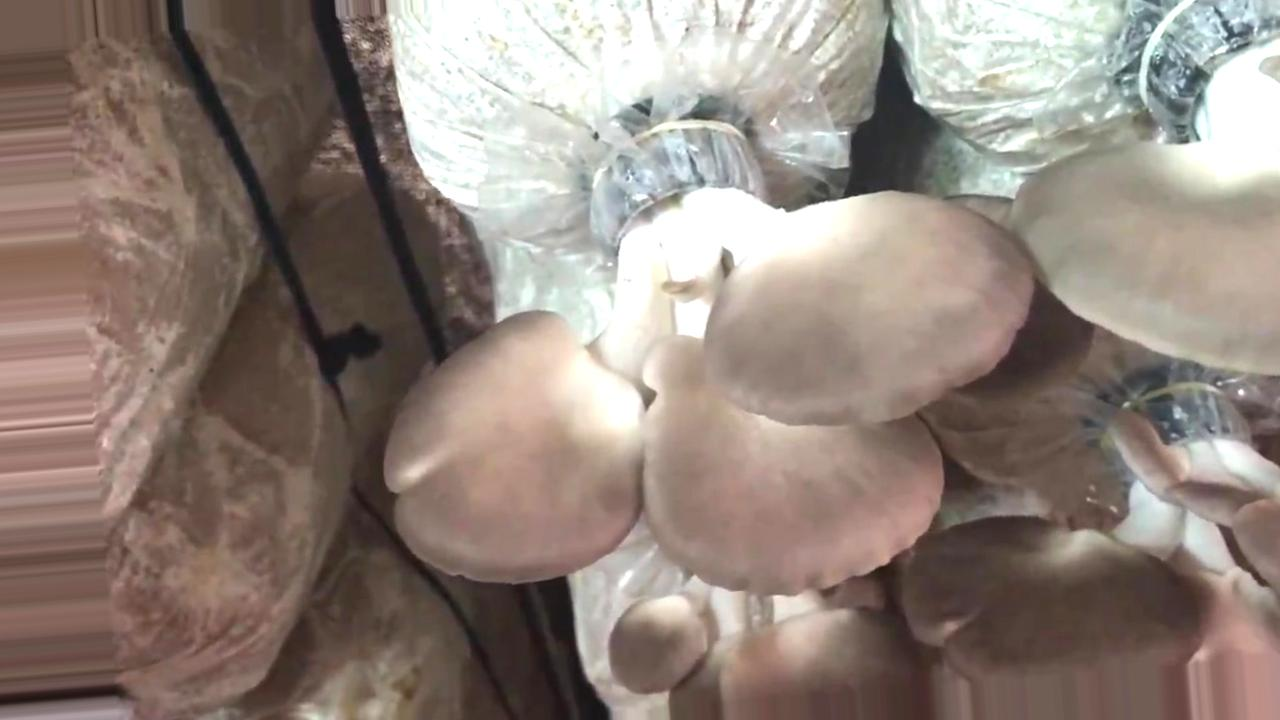nam: (386, 130, 1035, 589), (906, 388, 1280, 720), (1018, 3, 1280, 370), (610, 573, 921, 720)
